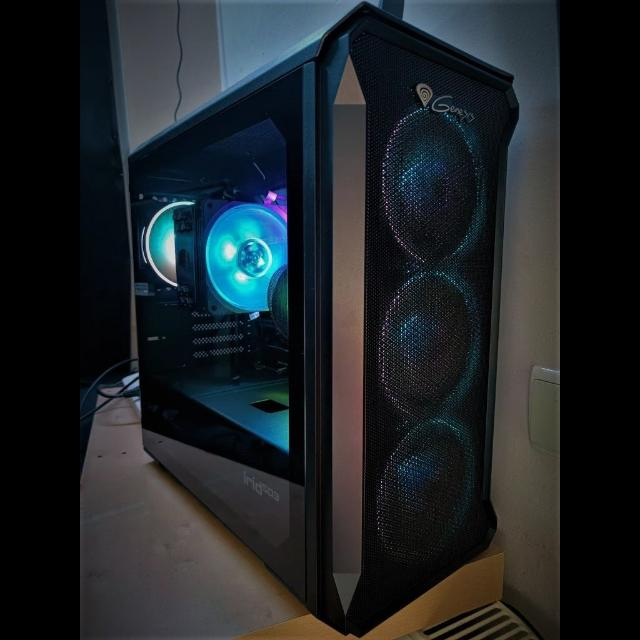Desktop-PC: (131, 8, 517, 620)
